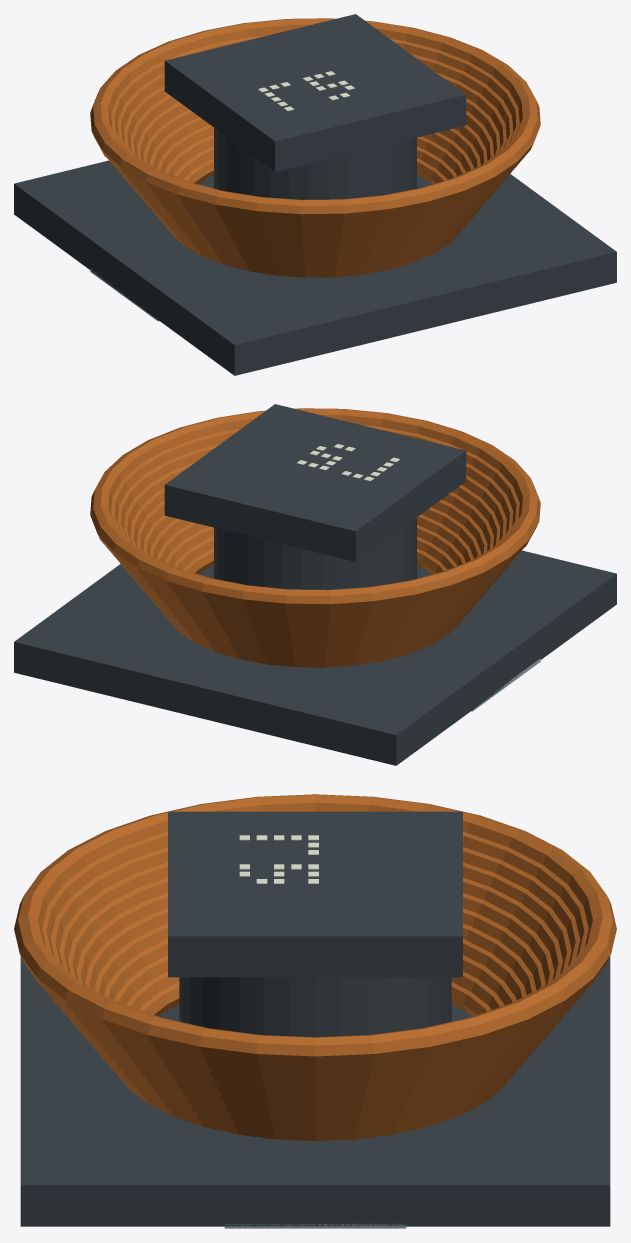
The model's file is 14_L97_L2_Inductor.fbx.
3 renders of one model, top to bottom at view 1: azimuth 30°, elevation 25°; view 2: azimuth 150°, elevation 25°; view 3: azimuth 270°, elevation 25°, orthographic. The views are drawn at different scales.
Parts seen in each view (by area): view 1: L2_base, L2_core_top, L2_copper_turn_11, L2_ferrite_inner, L2_copper_turn_10, L2_copper_turn_9, L2_copper_turn_8, L2_copper_turn_7, L2_copper_turn_6, L2_copper_turn_4, L2_copper_turn_3, L2_copper_turn_5 (+3 smaller); view 2: L2_base, L2_core_top, L2_copper_turn_11, L2_ferrite_inner, L2_copper_turn_10, L2_copper_turn_9, L2_copper_turn_8, L2_copper_turn_7, L2_copper_turn_6, L2_copper_turn_4, L2_copper_turn_3, L2_copper_turn_5 (+3 smaller); view 3: L2_base, L2_core_top, L2_copper_turn_11, L2_ferrite_inner, L2_copper_turn_10, L2_copper_turn_9, L2_copper_turn_8, L2_copper_turn_7, L2_copper_turn_6, L2_copper_turn_5, L2_copper_turn_4, L2_copper_turn_3 (+4 smaller).
Boxes of the visible parts, left/top/right/bottom form: L2_base: left=14, top=160, right=616, bottom=375; L2_core_top: left=164, top=14, right=466, bottom=171; L2_copper_turn_11: left=90, top=18, right=540, bottom=219; L2_ferrite_inner: left=214, top=128, right=416, bottom=199; L2_copper_turn_10: left=109, top=35, right=524, bottom=224; L2_copper_turn_9: left=116, top=53, right=516, bottom=230; L2_copper_turn_8: left=122, top=72, right=510, bottom=235; L2_copper_turn_7: left=128, top=95, right=505, bottom=240; L2_copper_turn_6: left=134, top=102, right=499, bottom=245; L2_copper_turn_4: left=146, top=117, right=486, bottom=256; L2_copper_turn_3: left=152, top=124, right=480, bottom=261; L2_copper_turn_5: left=140, top=109, right=492, bottom=251; L2_base: left=14, top=550, right=616, bottom=765; L2_core_top: left=164, top=404, right=466, bottom=561; L2_copper_turn_11: left=90, top=408, right=540, bottom=609; L2_ferrite_inner: left=214, top=518, right=416, bottom=589; L2_copper_turn_10: left=106, top=425, right=521, bottom=614; L2_copper_turn_9: left=114, top=443, right=514, bottom=620; L2_copper_turn_8: left=120, top=462, right=508, bottom=625; L2_copper_turn_7: left=125, top=485, right=502, bottom=630; L2_copper_turn_6: left=131, top=492, right=496, bottom=635; L2_copper_turn_4: left=144, top=507, right=484, bottom=646; L2_copper_turn_3: left=150, top=514, right=478, bottom=651; L2_copper_turn_5: left=138, top=499, right=490, bottom=641; L2_base: left=20, top=956, right=610, bottom=1226; L2_core_top: left=168, top=811, right=462, bottom=977; L2_copper_turn_11: left=14, top=794, right=616, bottom=1063; L2_ferrite_inner: left=179, top=977, right=451, bottom=1037; L2_copper_turn_10: left=42, top=832, right=588, bottom=1070; L2_copper_turn_9: left=50, top=847, right=580, bottom=1077; L2_copper_turn_8: left=59, top=862, right=571, bottom=1084; L2_copper_turn_7: left=68, top=877, right=562, bottom=1091; L2_copper_turn_6: left=76, top=893, right=554, bottom=1098; L2_copper_turn_5: left=84, top=908, right=546, bottom=1105; L2_copper_turn_4: left=92, top=924, right=538, bottom=1112; L2_copper_turn_3: left=100, top=939, right=530, bottom=1119.
Size of the model in its own units: 0.0133 by 0.00565 by 0.0133.
